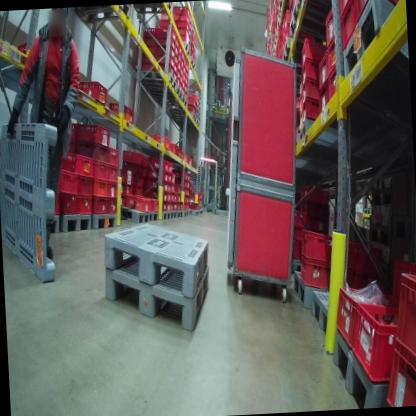pallet: (0, 115, 66, 289), (97, 215, 209, 309), (99, 254, 217, 339), (337, 0, 407, 97), (331, 329, 391, 406), (296, 118, 352, 163), (76, 6, 134, 25), (138, 68, 177, 93), (310, 289, 332, 333), (291, 275, 317, 307), (142, 83, 182, 103), (119, 204, 151, 226), (61, 213, 92, 232), (132, 3, 173, 17), (166, 108, 196, 126), (91, 212, 120, 230), (157, 94, 187, 111), (185, 87, 201, 104), (148, 208, 160, 224), (183, 119, 200, 129), (159, 210, 172, 221), (189, 56, 197, 72), (181, 43, 190, 56), (195, 108, 202, 118), (171, 209, 177, 220), (177, 208, 183, 219), (183, 208, 189, 219), (191, 209, 198, 217), (196, 114, 201, 123), (196, 96, 201, 105), (187, 206, 192, 215), (197, 104, 201, 112), (197, 203, 201, 211), (198, 211, 201, 216)
small_load_carrier: (347, 299, 408, 386), (332, 279, 400, 355), (340, 0, 405, 47), (391, 263, 416, 378), (384, 338, 416, 403), (297, 226, 340, 268), (296, 254, 334, 291), (76, 118, 114, 150), (75, 148, 109, 182), (339, 235, 366, 273), (76, 74, 107, 103), (76, 138, 108, 166), (61, 151, 92, 179), (323, 3, 341, 51), (12, 34, 41, 63), (324, 32, 342, 77), (107, 99, 135, 127), (297, 31, 317, 69), (299, 75, 320, 109), (58, 163, 79, 192), (300, 55, 318, 88), (315, 46, 328, 89), (121, 148, 148, 168), (315, 75, 330, 111), (60, 190, 77, 221), (126, 192, 151, 213), (300, 98, 321, 123), (327, 67, 340, 106), (87, 176, 110, 198), (148, 131, 171, 153), (76, 193, 93, 221), (76, 172, 93, 198), (144, 185, 166, 204), (153, 53, 175, 72), (144, 176, 168, 193), (155, 25, 176, 44), (88, 197, 108, 216), (154, 42, 175, 60), (106, 145, 120, 171), (147, 164, 167, 182), (147, 156, 169, 172), (157, 35, 177, 52), (335, 0, 354, 16), (172, 3, 190, 19), (106, 180, 119, 202), (106, 196, 120, 216), (64, 122, 79, 140), (105, 165, 119, 184), (155, 62, 174, 76), (138, 27, 158, 40), (172, 16, 189, 31), (170, 10, 188, 24), (136, 52, 155, 65), (65, 139, 77, 159), (168, 142, 181, 159), (132, 64, 156, 73), (136, 46, 157, 56), (138, 36, 157, 47), (118, 164, 126, 185), (118, 177, 127, 195), (282, 9, 290, 28), (149, 198, 159, 213), (281, 22, 289, 39), (176, 168, 187, 180), (178, 33, 189, 45), (177, 28, 189, 39), (288, 0, 295, 18), (188, 200, 200, 210), (126, 183, 135, 196), (174, 34, 182, 48), (119, 194, 127, 205), (188, 96, 196, 107), (165, 201, 172, 212), (180, 177, 187, 188), (174, 43, 179, 58), (167, 169, 173, 181), (175, 182, 181, 194), (192, 93, 198, 105), (168, 162, 175, 172), (171, 202, 178, 212), (160, 7, 170, 14), (167, 181, 173, 192), (161, 202, 167, 212), (174, 51, 178, 66), (160, 14, 168, 21), (188, 105, 195, 113), (173, 192, 178, 203), (191, 30, 197, 39), (174, 182, 178, 195), (185, 180, 191, 188), (173, 70, 177, 82), (167, 192, 172, 201), (171, 188, 174, 203), (181, 187, 186, 196), (159, 21, 168, 26), (180, 200, 184, 211), (176, 194, 182, 201), (186, 172, 191, 180), (173, 64, 177, 73), (177, 200, 180, 211), (183, 195, 187, 203), (190, 49, 194, 57), (191, 43, 194, 53), (183, 203, 187, 210), (191, 37, 194, 45), (186, 188, 189, 195), (187, 202, 190, 208), (195, 106, 197, 115), (187, 195, 189, 203)
